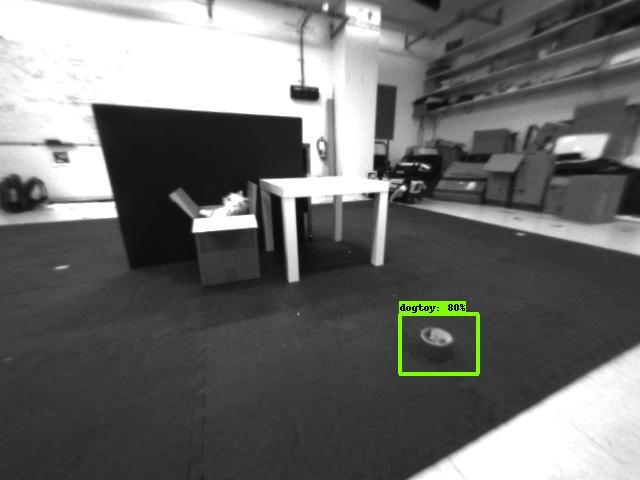dogtoy: (393, 307, 479, 383)
